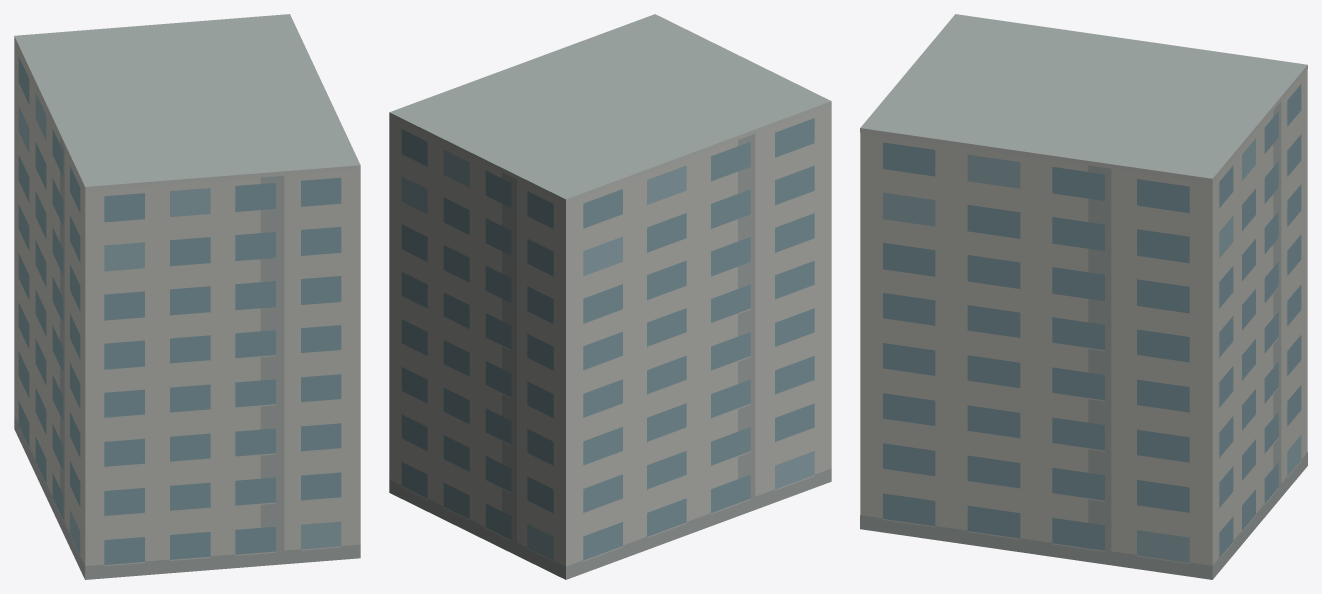
The model's file is survey-upis-32713065.glb.
The picture shows the model from 3 angles, left to right: view 1: azimuth 30°, elevation 25°; view 2: azimuth 150°, elevation 25°; view 3: azimuth 270°, elevation 25°; orthographic projection. The views are drawn at different scales.
Parts seen in each view (by area): view 1: survey-upis-32713065.tmp; view 2: survey-upis-32713065.tmp; view 3: survey-upis-32713065.tmp.
Part boxes in pixels (x1=…): survey-upis-32713065.tmp: x1=14, y1=14, x2=360, y2=579; survey-upis-32713065.tmp: x1=389, y1=14, x2=831, y2=579; survey-upis-32713065.tmp: x1=860, y1=14, x2=1307, y2=579.
Size of the model in its own units: 19.22 by 21.8 by 22.06.
